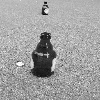beer: (32, 30, 55, 74)
